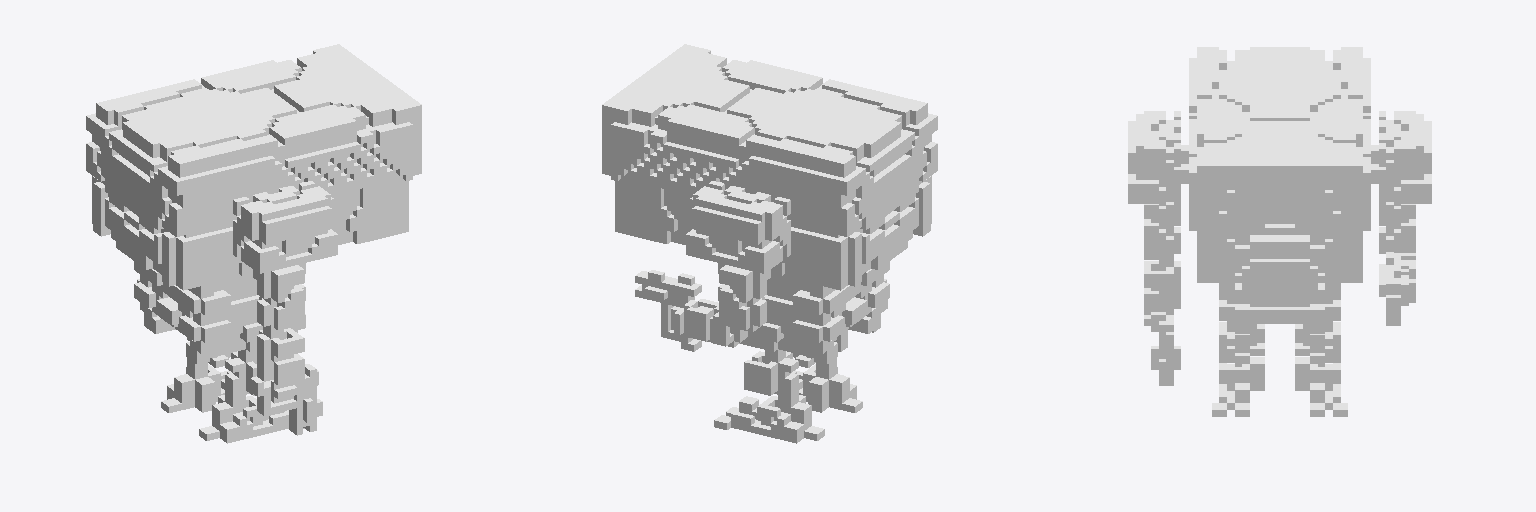
File: Mecha01.obj
3 renders of one model, left to right at view 1: azimuth 30°, elevation 25°; view 2: azimuth 150°, elevation 25°; view 3: azimuth 270°, elevation 25°, orthographic.
Parts seen in each view (by area): view 1: object 1; view 2: object 1; view 3: object 1.
Part boxes in pixels (x1,y1,x2,y2): object 1: (86, 44, 421, 443); object 1: (602, 44, 937, 443); object 1: (1128, 47, 1431, 416).
Size of the model in its own units: 3.8 by 4.4 by 4.